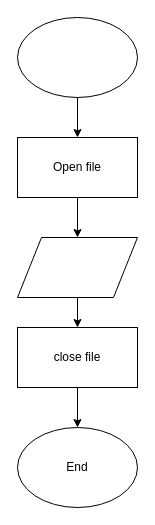
This 155x525 diagram has some shape labels left out. The centre of each missing label's shape, as x and y in pixels:
print header and contense of file: the point at 77,267
Start: the point at 77,57
